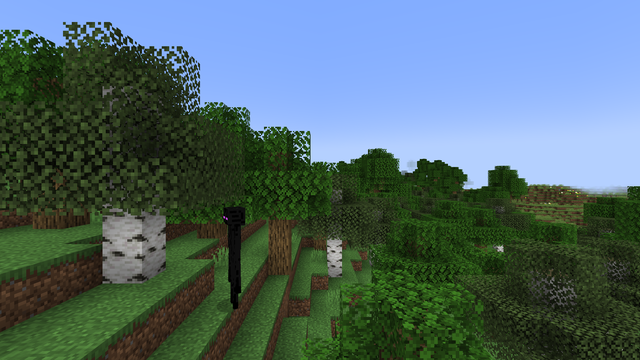endermens: (220, 203, 247, 308)
